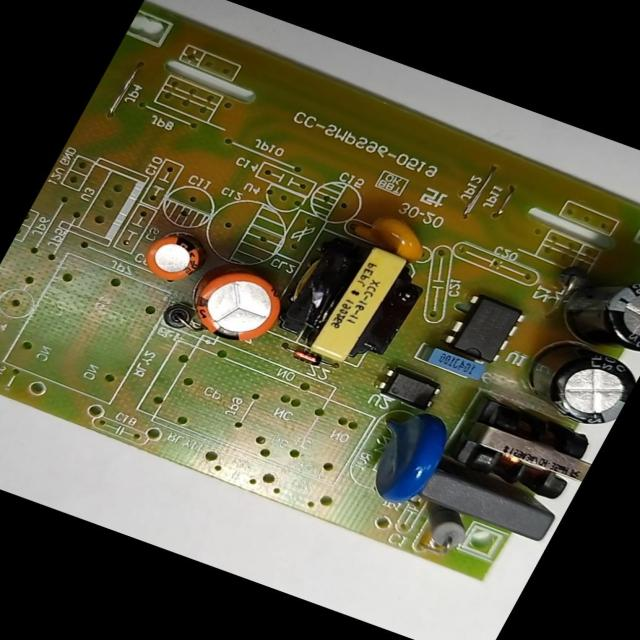Cap1: (177, 260, 292, 352)
Cap2: (134, 224, 210, 287)
Cap3: (504, 330, 640, 435)
Cap4: (546, 256, 639, 366)
MOSFET: (442, 291, 530, 366)
Mov: (343, 399, 460, 512)
Resistor: (410, 503, 478, 555)
Transformer: (266, 227, 436, 375), (442, 393, 605, 508)
